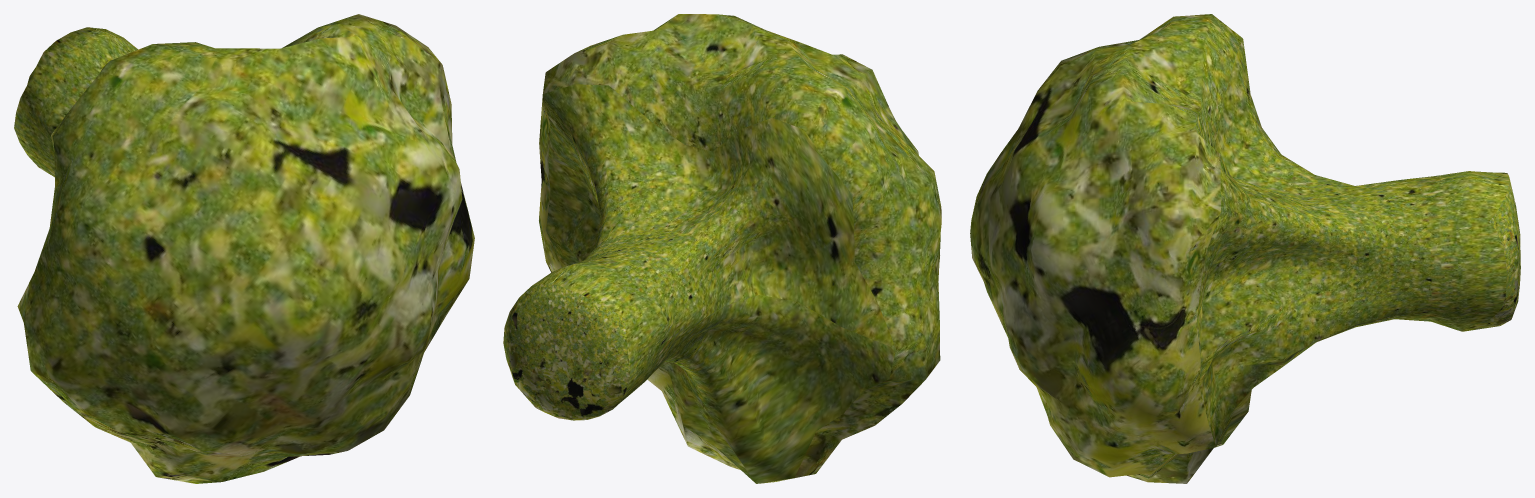
3 views of the same model, side by side, from view 1: azimuth 30°, elevation 25°; view 2: azimuth 150°, elevation 25°; view 3: azimuth 270°, elevation 25° (orthographic). The views are drawn at different scales.
Size of the model in its own units: 0.8433 by 0.8562 by 1.
